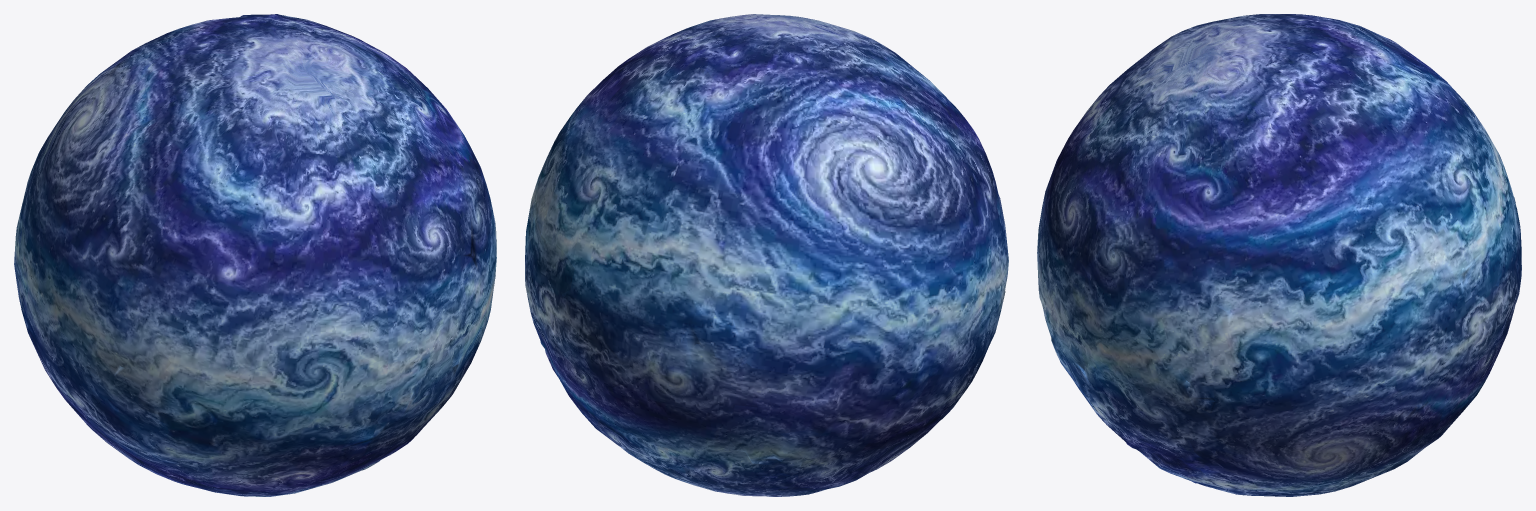
File: planet_11.glb
3 renders of one model, left to right at view 1: azimuth 30°, elevation 25°; view 2: azimuth 150°, elevation 25°; view 3: azimuth 270°, elevation 25°, orthographic.
Visible parts, largest first — view 1: Mesh_0.001; view 2: Mesh_0.001; view 3: Mesh_0.001.
Boxes of the visible parts, x1=… form: Mesh_0.001: x1=14, y1=14, x2=496, y2=496; Mesh_0.001: x1=525, y1=14, x2=1008, y2=496; Mesh_0.001: x1=1037, y1=14, x2=1521, y2=496.
Size of the model in its own units: 1.9 by 1.9 by 1.9.
1 material, 1 textured.
